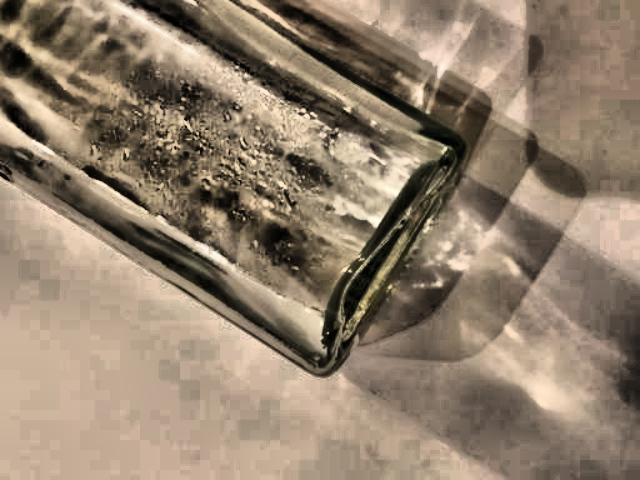Almennt: (0, 0, 462, 397)
